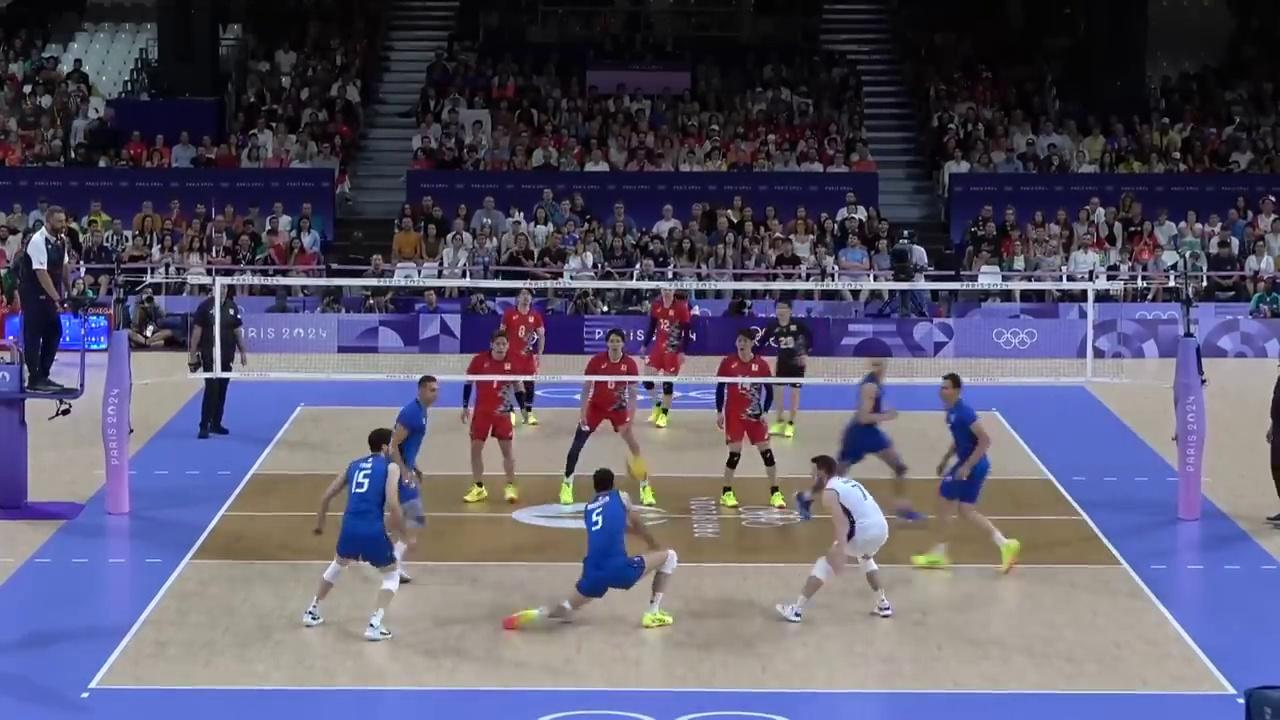ball: (628, 455, 648, 481)
